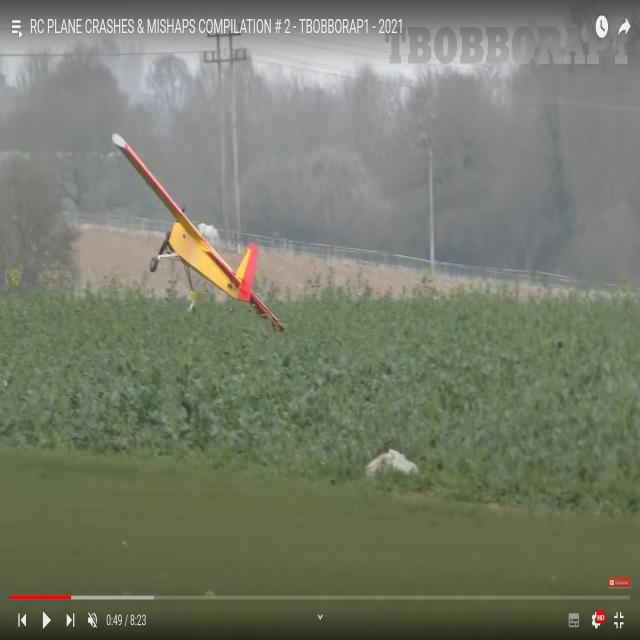iha: (104, 129, 280, 336)
